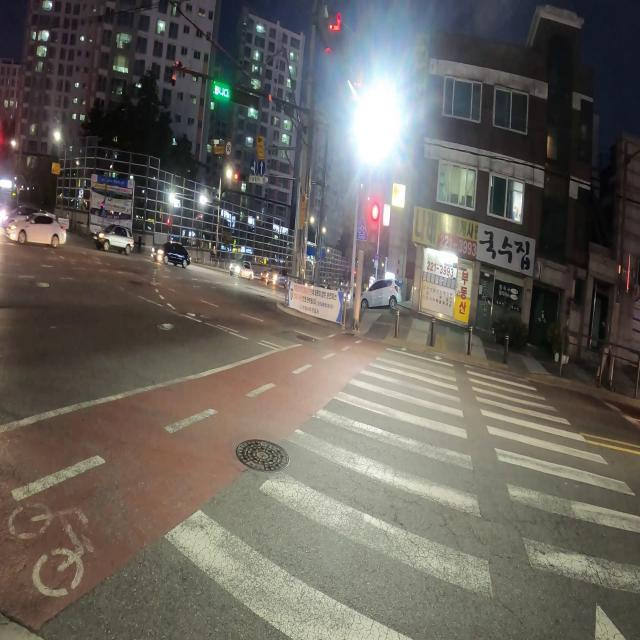crosswalk: (155, 345, 640, 640)
